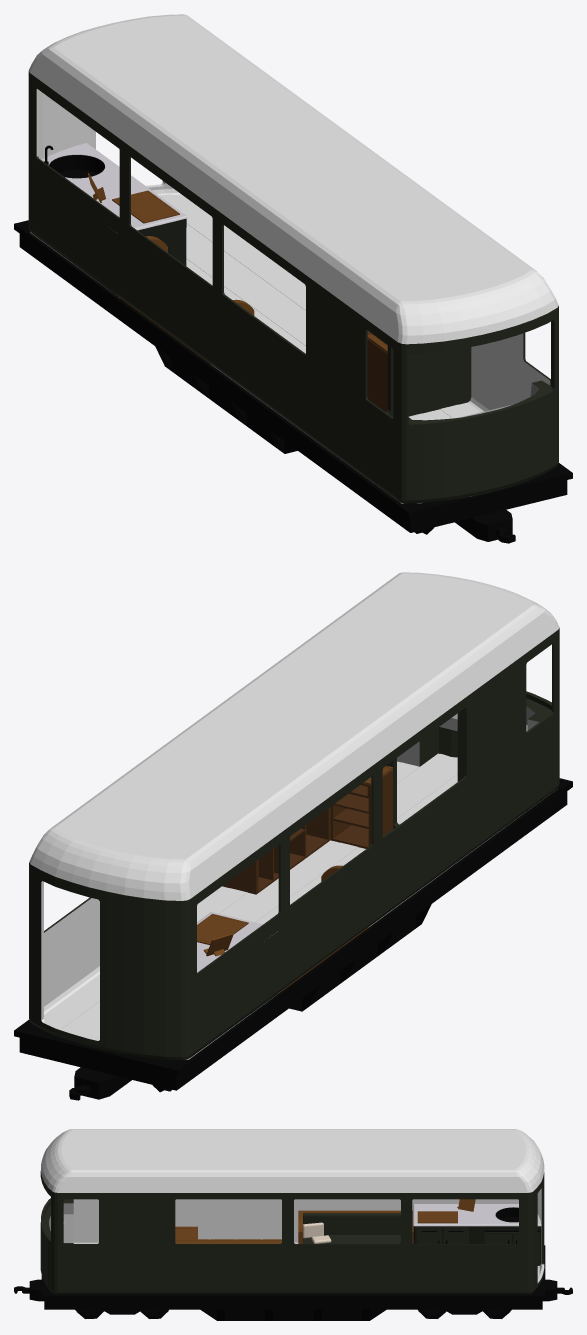
Rendered from TrainFinal.fbx.
3 views of the same model, one above another, from view 1: azimuth 30°, elevation 25°; view 2: azimuth 150°, elevation 25°; view 3: azimuth 270°, elevation 25° (orthographic). The views are drawn at different scales.
Visible parts, largest first — view 1: Cube.052, train-wagon-cargo-frame_F, Plane.512, Cube.071, Cube.053, Plane.511, Plane.510, Cube.060, Plane.513, Plane.514, Plane.509; view 2: Cube.052, train-wagon-cargo-frame_F, Cube.060, Plane.510, Plane.511, Cube.050, Plane.512, Plane.509, Plane.514, Cube.071, Plane.513; view 3: Cube.052, train-wagon-cargo-frame_F, Plane.500, Cube.071, Cube.053, Cube.068, Plane.499, Cube.050, Cube.051, Plane.514, Cube.085, Cube.080 (+1 smaller).
Boxes of the visible parts, bbox=[...] form: Cube.052: bbox=[28, 14, 558, 503]; train-wagon-cargo-frame_F: bbox=[14, 220, 572, 543]; Plane.512: bbox=[159, 194, 471, 418]; Cube.071: bbox=[41, 143, 187, 233]; Cube.053: bbox=[32, 155, 186, 297]; Plane.511: bbox=[186, 224, 452, 419]; Plane.510: bbox=[186, 241, 430, 420]; Cube.060: bbox=[367, 330, 387, 411]; Plane.513: bbox=[172, 194, 480, 414]; Plane.514: bbox=[112, 190, 179, 223]; Plane.509: bbox=[186, 259, 305, 353]; Cube.052: bbox=[29, 572, 559, 1060]; train-wagon-cargo-frame_F: bbox=[14, 778, 572, 1100]; Cube.060: bbox=[222, 770, 393, 894]; Plane.510: bbox=[79, 757, 457, 1038]; Plane.511: bbox=[63, 753, 455, 1033]; Cube.050: bbox=[397, 698, 551, 766]; Plane.512: bbox=[47, 762, 419, 1028]; Plane.509: bbox=[97, 775, 457, 1039]; Plane.514: bbox=[197, 914, 248, 944]; Cube.071: bbox=[197, 912, 276, 972]; Plane.513: bbox=[44, 761, 400, 1021]; Cube.052: bbox=[40, 1129, 544, 1294]; train-wagon-cargo-frame_F: bbox=[14, 1245, 572, 1320]; Plane.500: bbox=[303, 1213, 400, 1234]; Cube.071: bbox=[413, 1204, 541, 1226]; Cube.053: bbox=[413, 1207, 541, 1265]; Cube.068: bbox=[175, 1226, 281, 1243]; Plane.499: bbox=[303, 1235, 400, 1243]; Cube.050: bbox=[43, 1199, 73, 1243]; Cube.051: bbox=[298, 1210, 413, 1243]; Plane.514: bbox=[417, 1211, 457, 1223]; Cube.085: bbox=[303, 1222, 323, 1238]; Cube.080: bbox=[484, 1234, 511, 1243].
Size of the model in its own units: 903 by 1309 by 4182.
